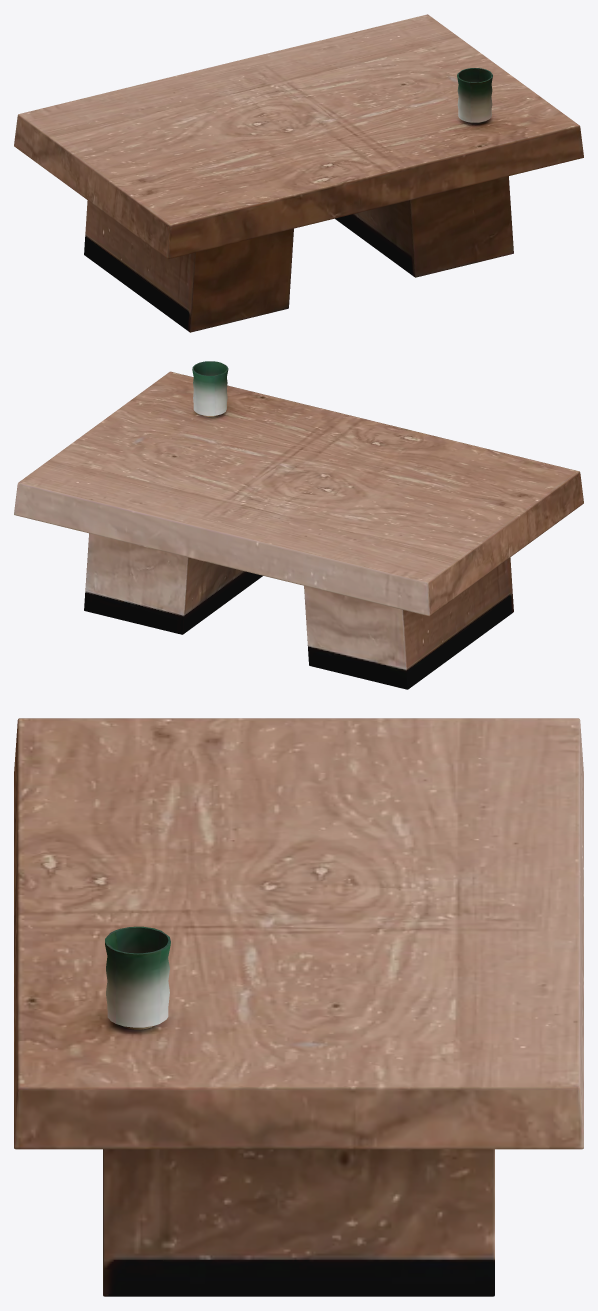
The model's file is table-1k.glb.
3 renders of one model, top to bottom at view 1: azimuth 30°, elevation 25°; view 2: azimuth 150°, elevation 25°; view 3: azimuth 270°, elevation 25°, orthographic. The views are drawn at different scales.
Bounding box in the file's own units: 19.25 × 7.9 × 12.38.
1 material, 1 textured.
